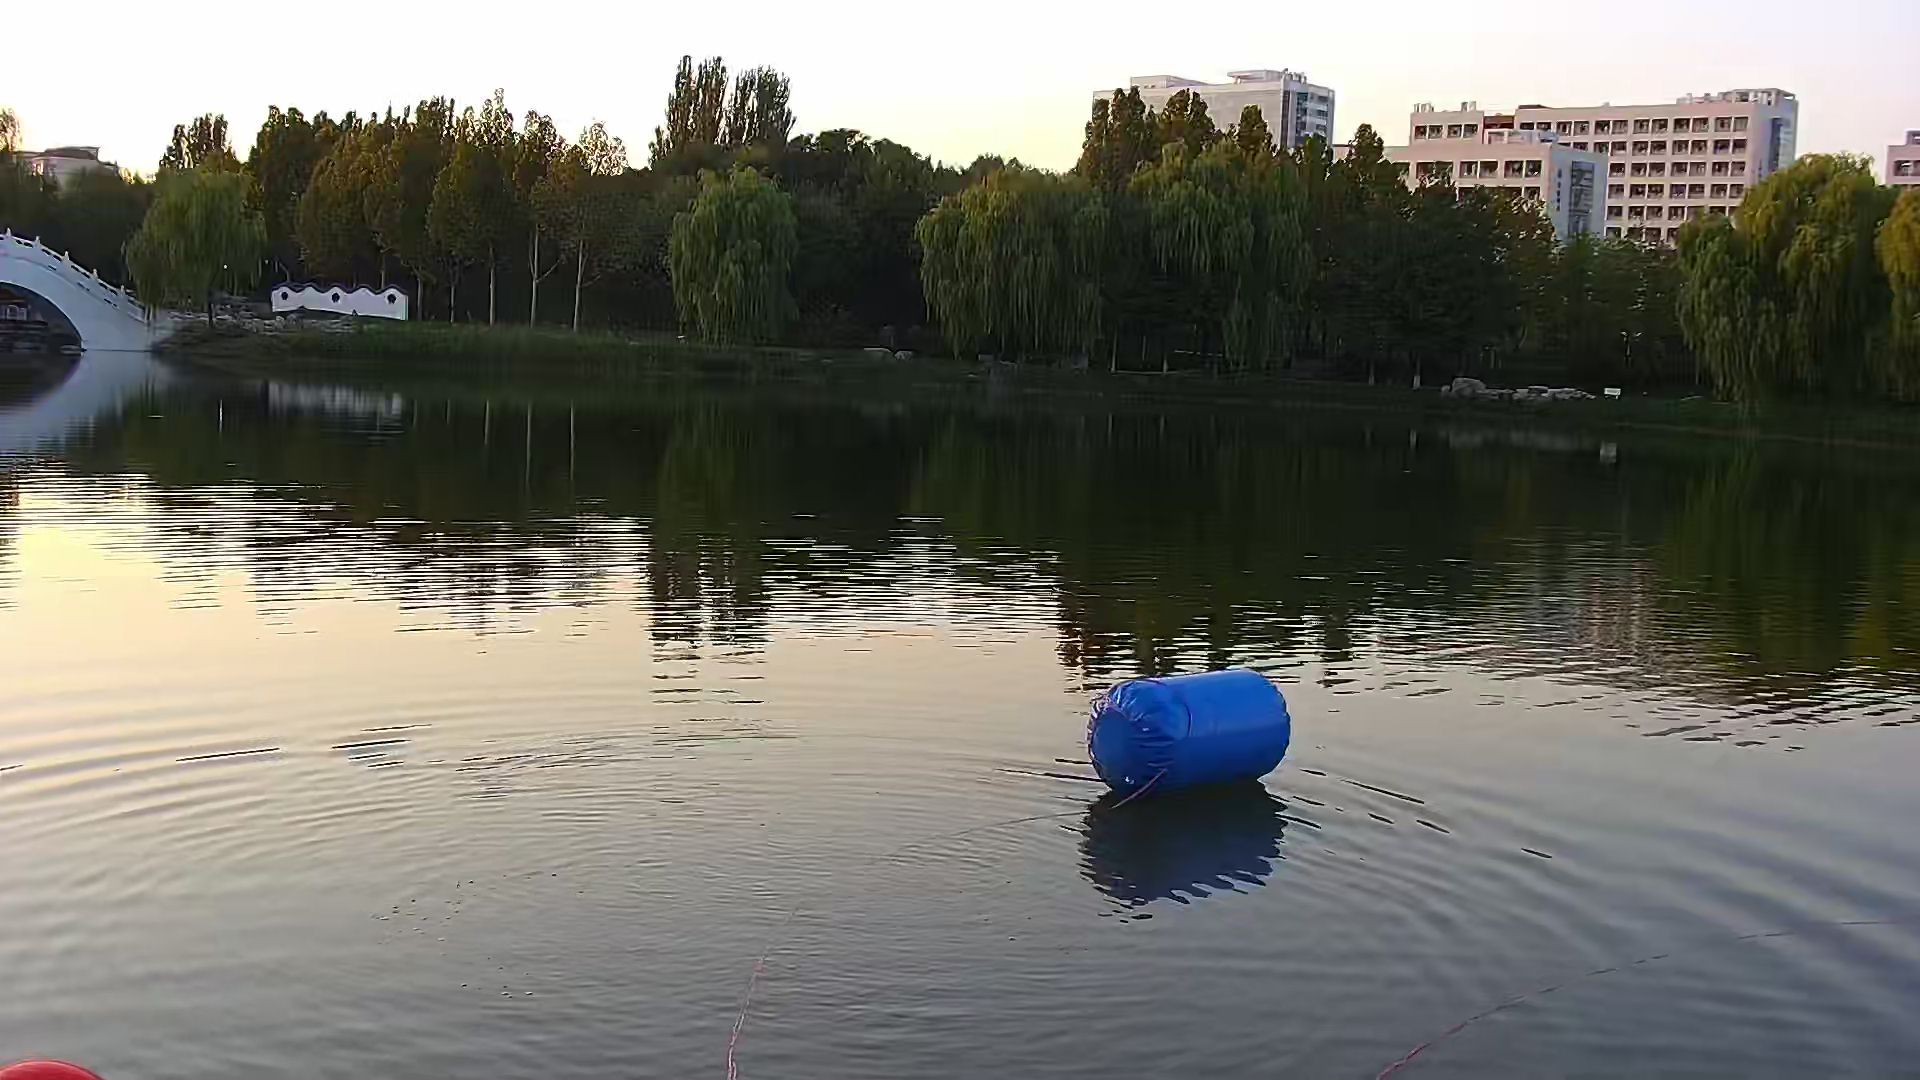bridge: (1, 233, 162, 356)
rubbish: (1089, 669, 1290, 796)
